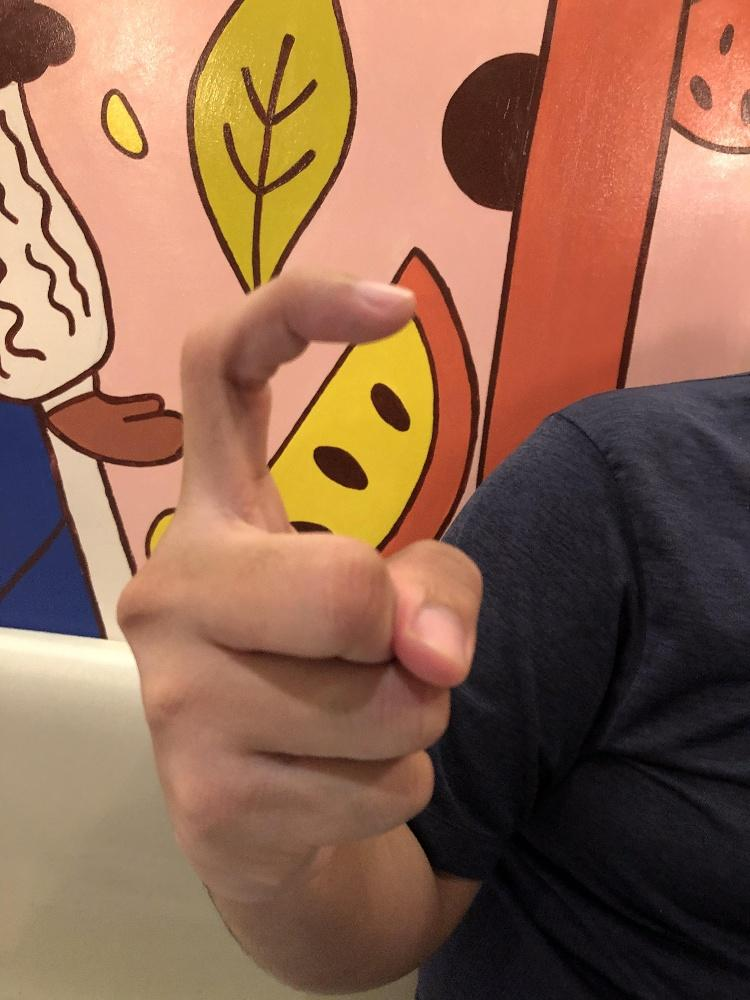x: (110, 270, 486, 897)
